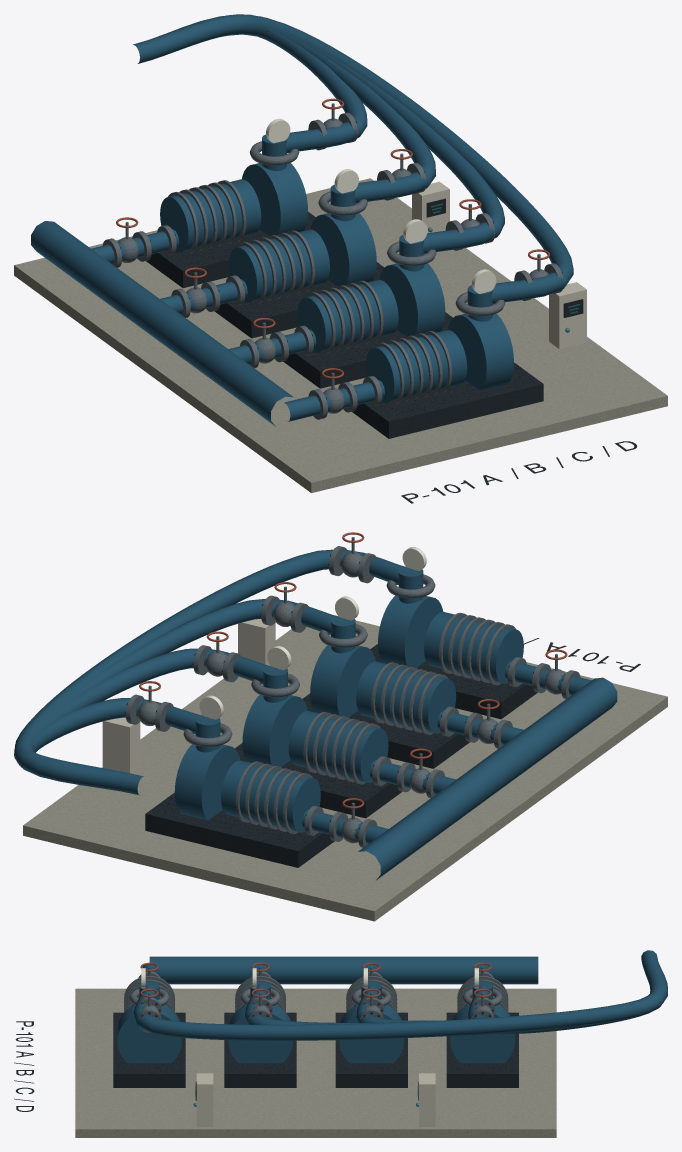
The model's file is cooling-pumps.d5bb6cccccda.glb.
The picture shows the model from 3 angles, top to bottom: view 1: azimuth 30°, elevation 25°; view 2: azimuth 150°, elevation 25°; view 3: azimuth 270°, elevation 25°; orthographic projection. The views are drawn at different scales.
Visible parts, largest first — view 1: structure_blue_00290, structure_concrete_00288, structure_steel_00291, structure_dark_00289, structure_cream_00294, structure_white_00292, structure_warm_00293; view 2: structure_blue_00290, structure_concrete_00288, structure_steel_00291, structure_dark_00289, structure_cream_00294, structure_white_00292, structure_warm_00293; view 3: structure_concrete_00288, structure_blue_00290, structure_dark_00289, structure_steel_00291, structure_cream_00294, structure_warm_00293, structure_white_00292.
Part boxes in pixels (<box>): structure_blue_00290: <box>31,14,573,426</box>; structure_concrete_00288: <box>14,178,667,492</box>; structure_steel_00291: <box>102,103,563,419</box>; structure_dark_00289: <box>120,114,637,503</box>; structure_cream_00294: <box>412,181,586,348</box>; structure_white_00292: <box>266,118,496,293</box>; structure_warm_00293: <box>116,98,550,378</box>; structure_blue_00290: <box>14,549,617,880</box>; structure_concrete_00288: <box>23,615,667,921</box>; structure_steel_00291: <box>125,537,580,847</box>; structure_dark_00289: <box>125,548,640,867</box>; structure_cream_00294: <box>102,619,275,774</box>; structure_white_00292: <box>199,547,426,719</box>; structure_warm_00293: <box>139,532,567,808</box>; structure_concrete_00288: <box>75,988,556,1137</box>; structure_blue_00290: <box>117,950,667,1063</box>; structure_dark_00289: <box>14,1003,518,1111</box>; structure_steel_00291: <box>124,966,508,1032</box>; structure_cream_00294: <box>196,1073,435,1126</box>; structure_warm_00293: <box>140,962,491,997</box>; structure_white_00292: <box>141,968,478,988</box>.
Size of the model in its own units: 9 by 3.52 by 17.66.
Materials: 9 (3 with a texture image).
